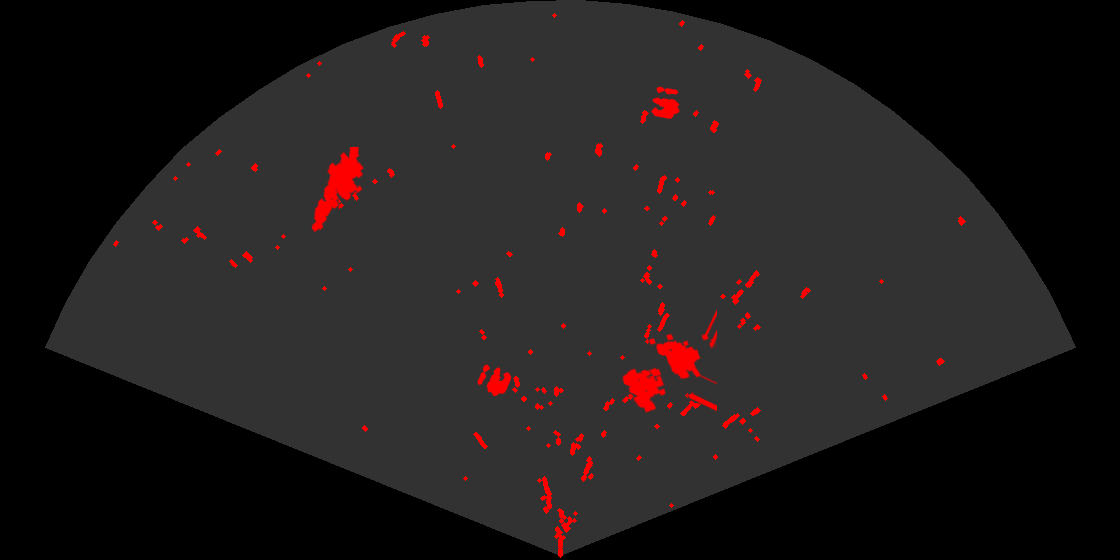ball: (476, 363, 513, 398), (650, 85, 681, 121)
cage: (621, 308, 717, 414)
frogman: (310, 147, 365, 234)
